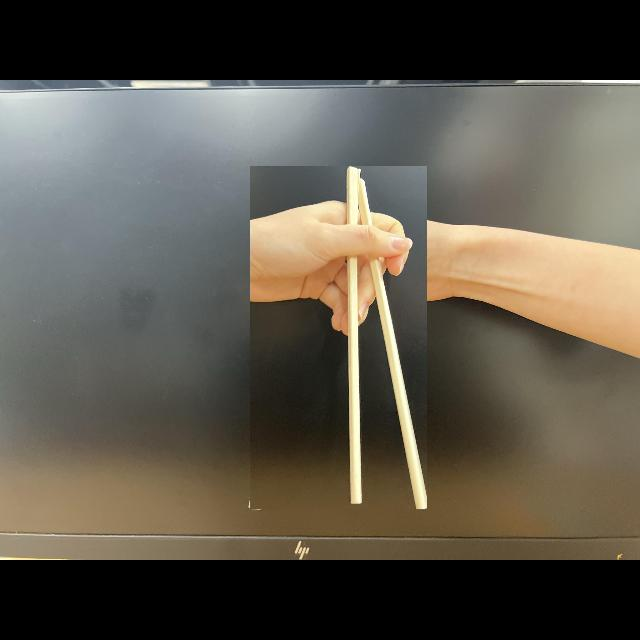stick: (251, 166, 427, 509)
